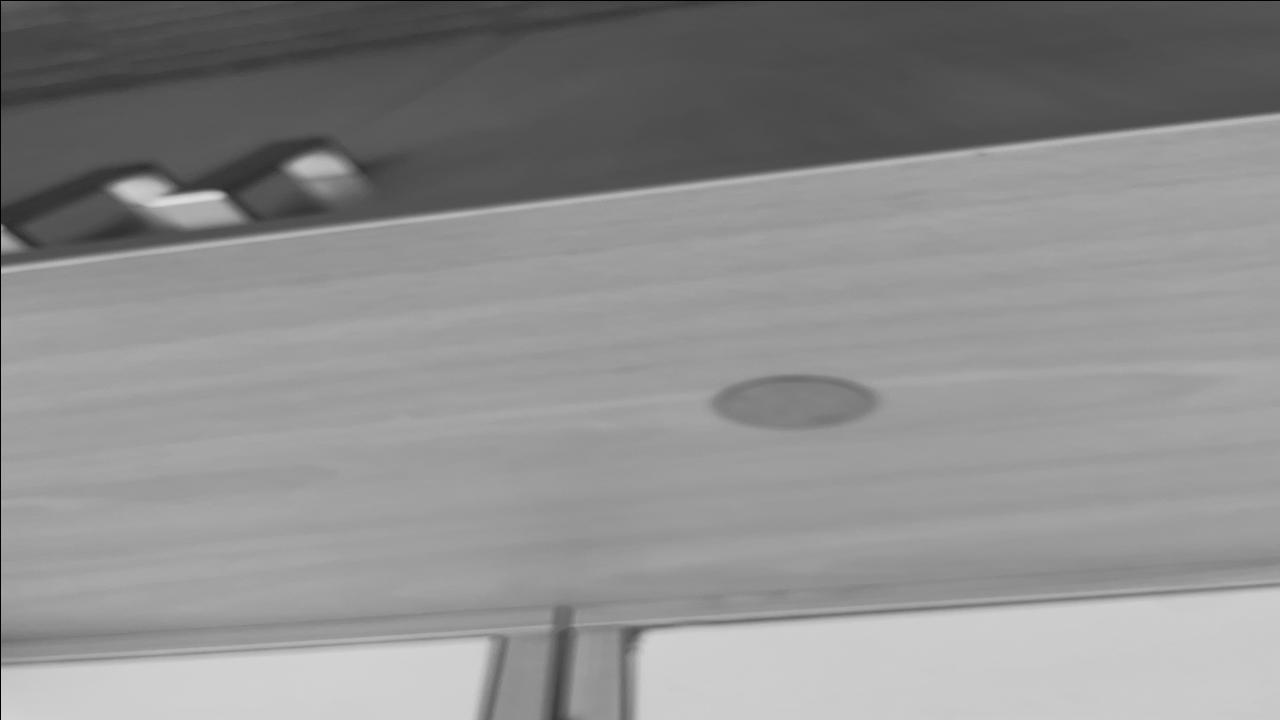coin: (705, 373, 885, 432)
